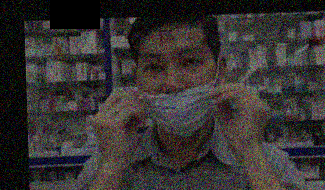mask_weared_incorrect: (134, 44, 218, 139)
